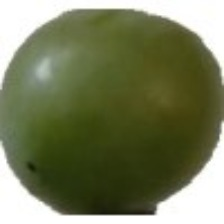grapes: (5, 44, 189, 181)
